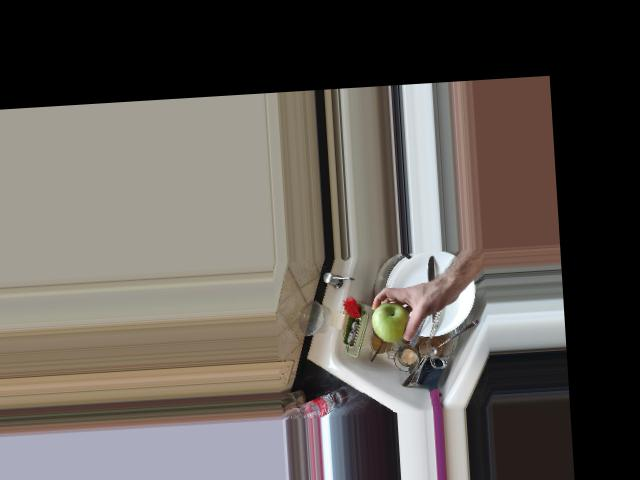apple: (369, 298, 415, 344)
